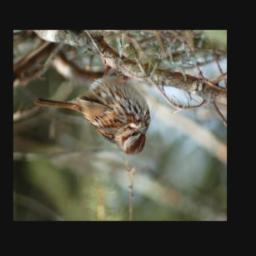Sparrow: (33, 57, 152, 158)
